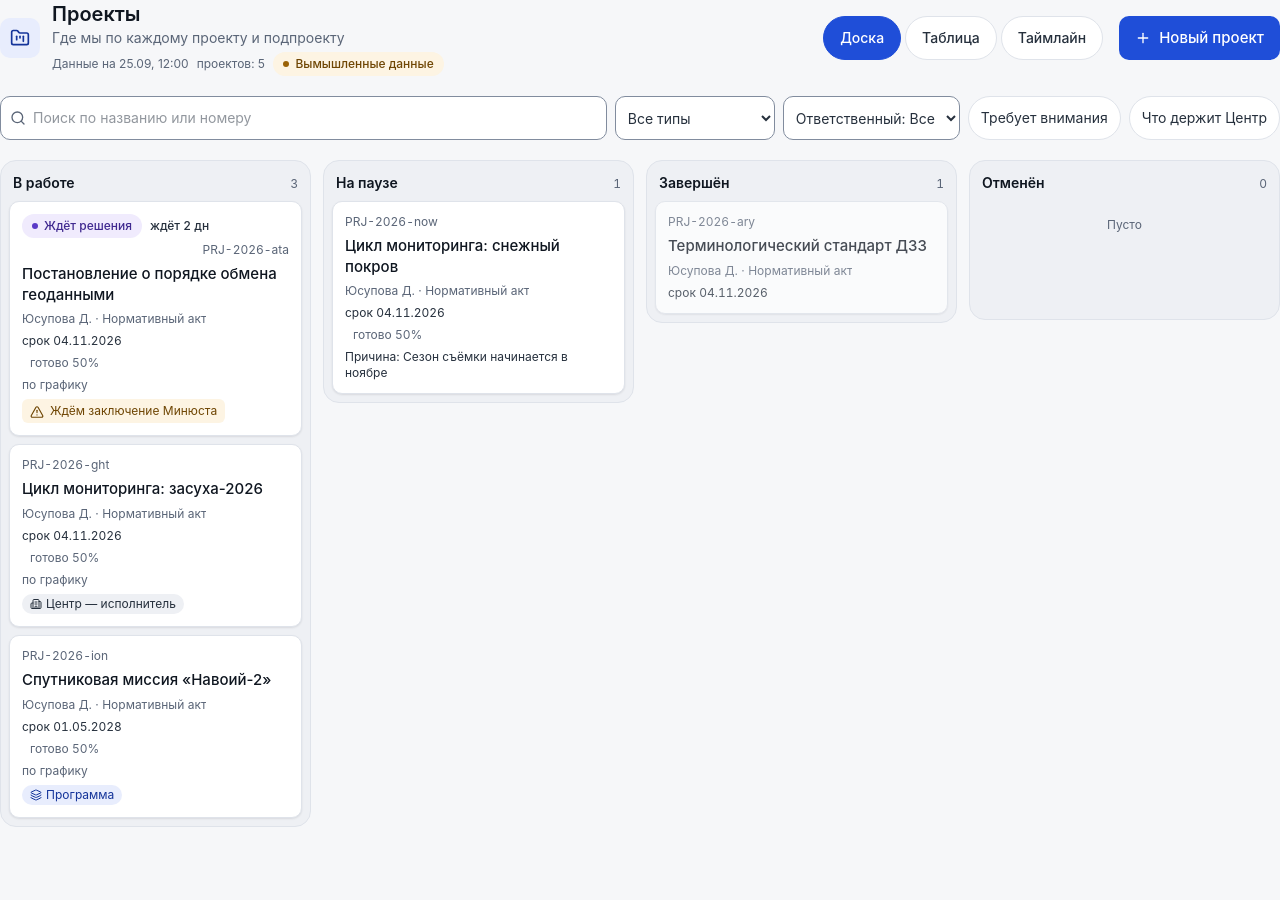
Test: Проекты › Центр — одним касанием; роль видна и на доске; смена и удаление — с версией
This screenshot has width=1280, height=900.
Click the button "Постановление о порядке" at (156, 319), box [10, 202, 301, 435]
(page scrolled)
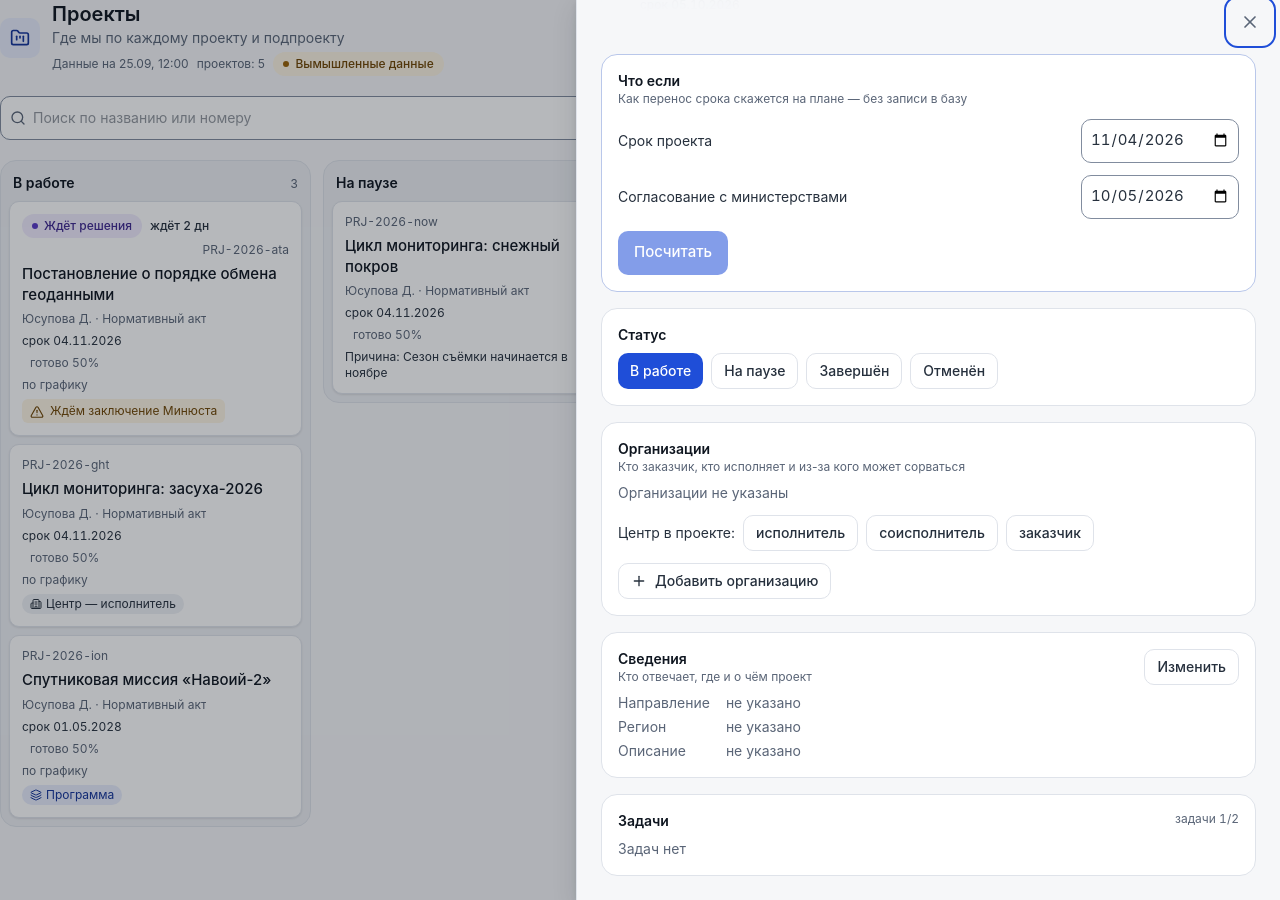
Click the button "исполнитель" at (801, 532), box [743, 514, 858, 550]
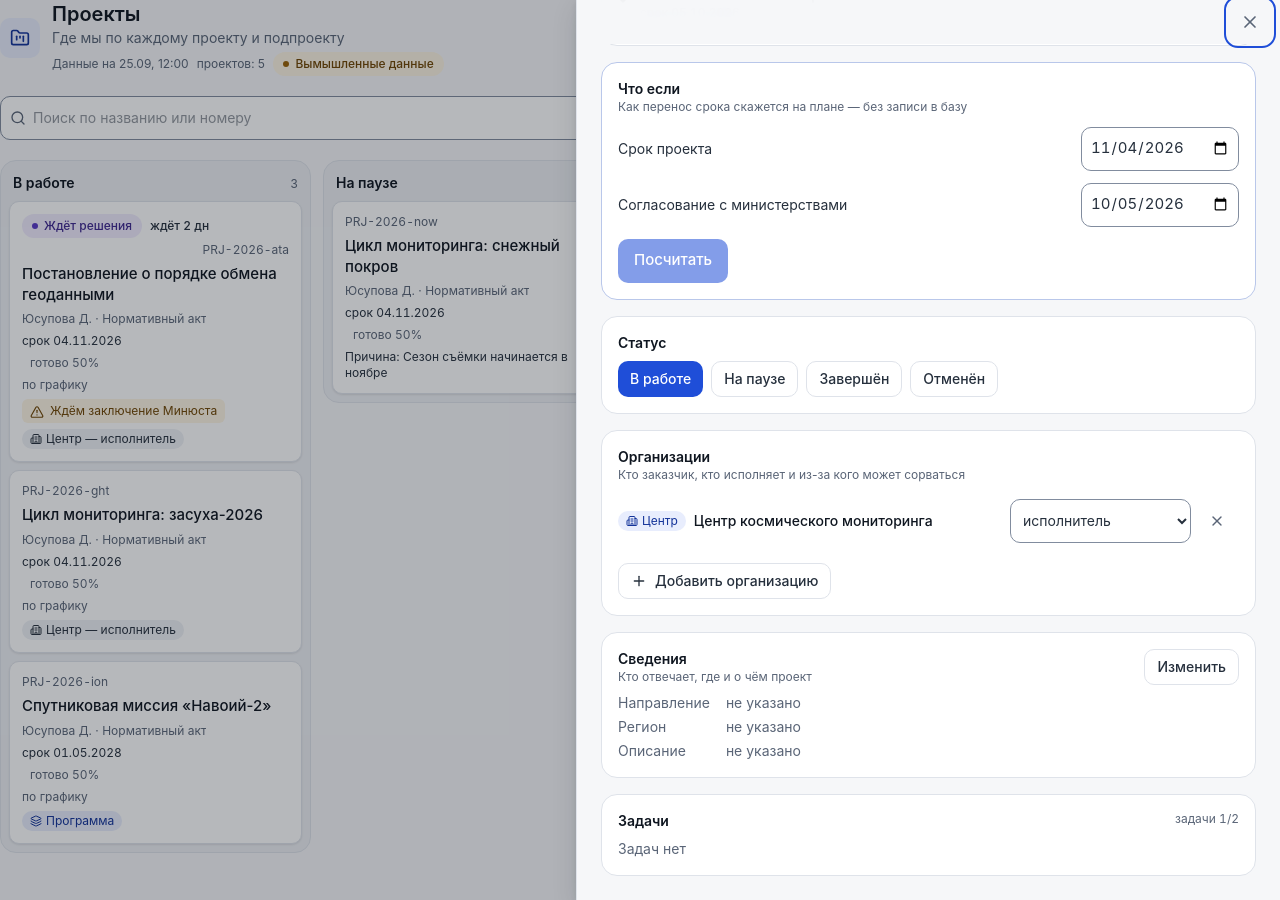
Check: the dropdown named "Роль: Центр космического мониторинга" shows "исполнитель"
Check: the text "Центр — исполнитель" is shown, box [22, 429, 184, 449]
Select "соисполнитель" in the dropdown named "Роль: Центр космического мониторинга" at (1100, 520), box [1010, 498, 1191, 542]
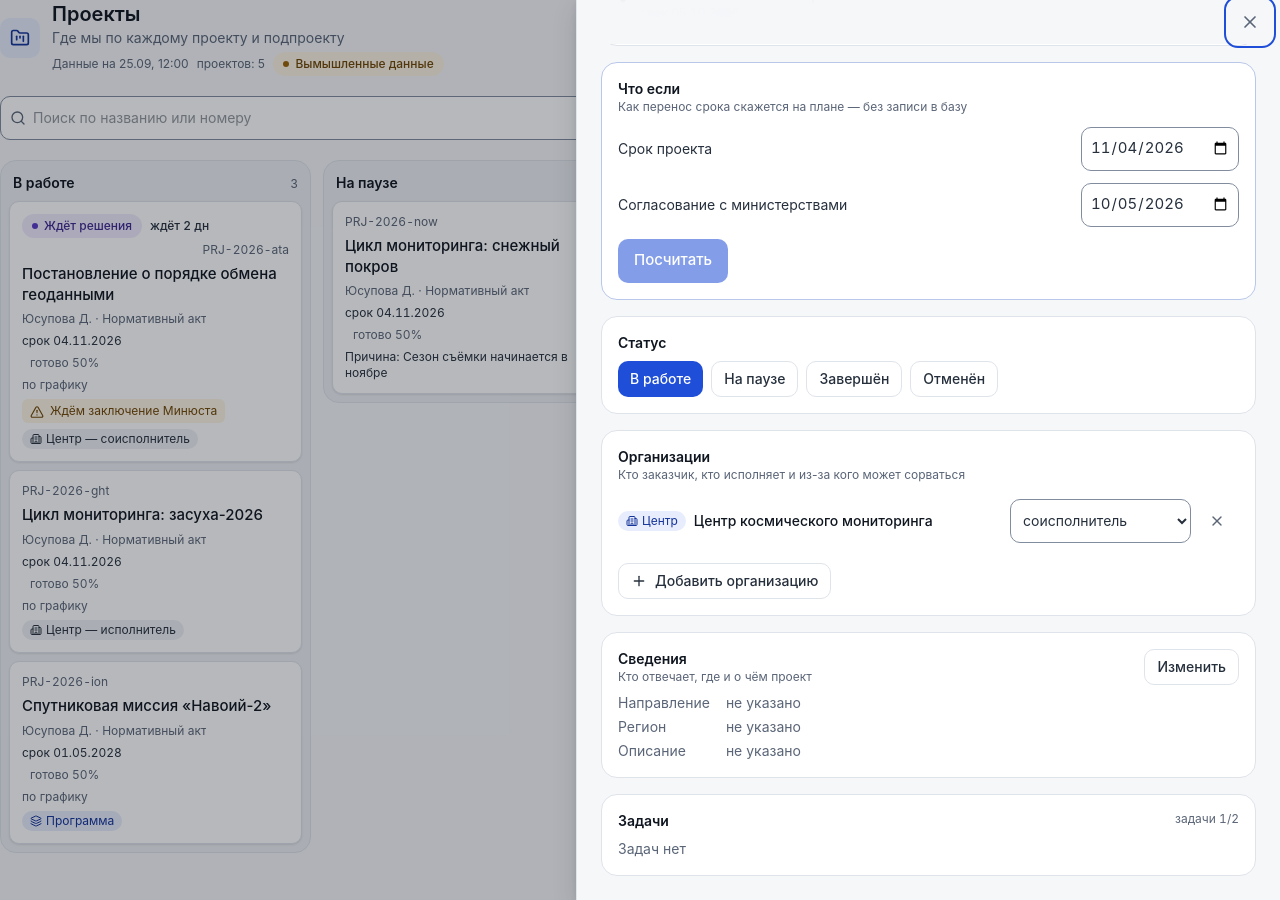
Click the button named "Убрать: Центр космического мониторинга" at (1217, 520), box [1195, 498, 1239, 542]
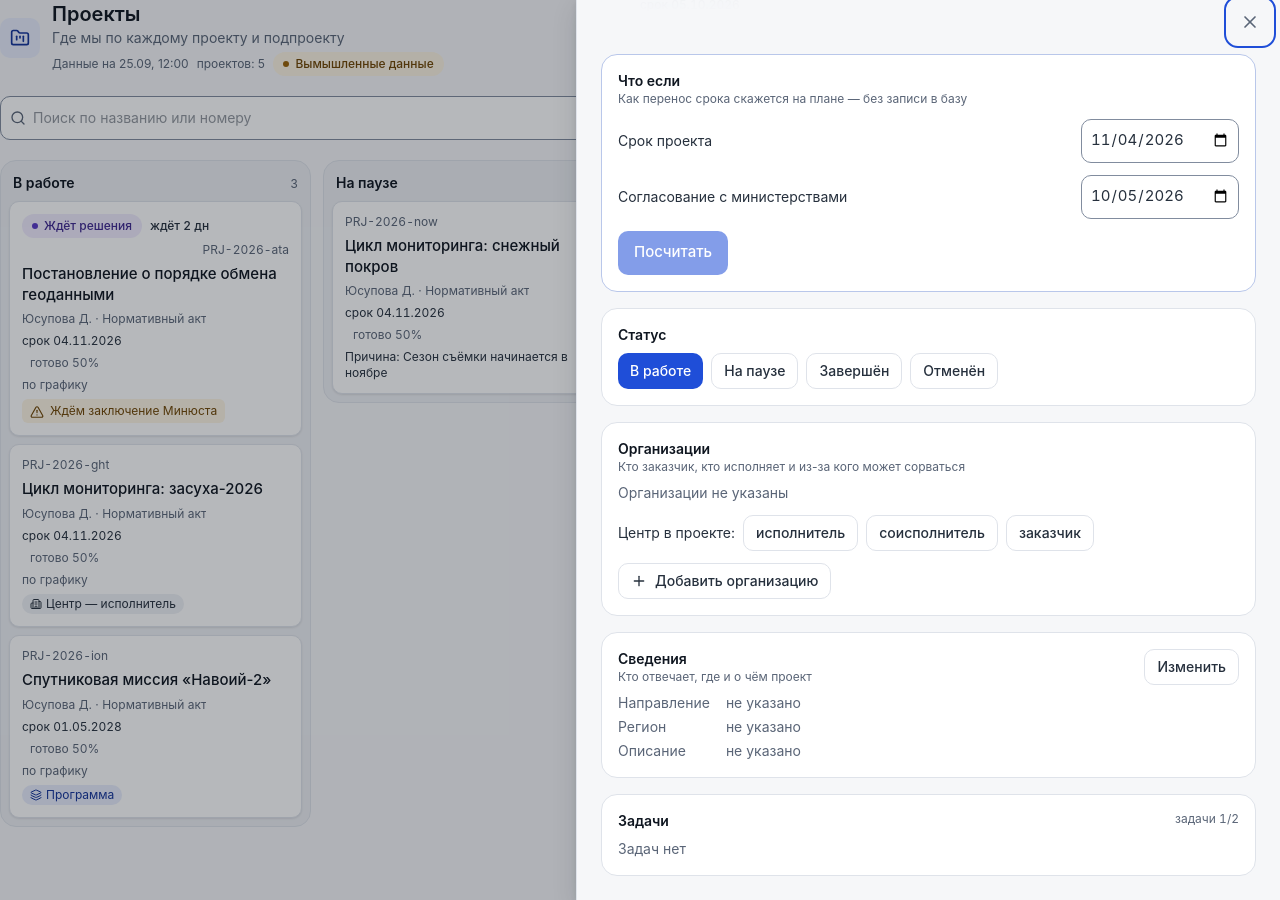
Check: the text "Организации не указаны" is shown, box [618, 484, 788, 500]
